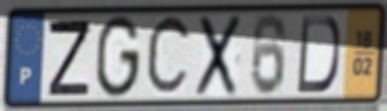6: (249, 12, 287, 100)
C: (143, 11, 194, 102)
D: (294, 14, 342, 96)
G: (93, 13, 143, 101)
X: (193, 12, 244, 100)
Z: (45, 18, 93, 98)
